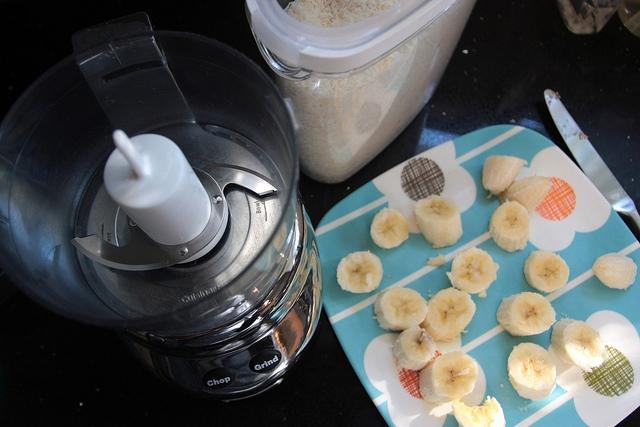banana: (550, 318, 609, 373), (418, 350, 478, 404), (419, 287, 476, 342), (506, 343, 556, 401), (496, 292, 558, 337), (414, 194, 464, 248), (372, 286, 428, 332), (446, 247, 499, 294), (489, 198, 531, 253), (498, 174, 552, 214), (482, 155, 528, 199), (392, 326, 437, 370), (337, 250, 383, 293), (524, 250, 570, 292), (452, 395, 507, 427), (592, 252, 637, 291), (370, 207, 410, 249)
